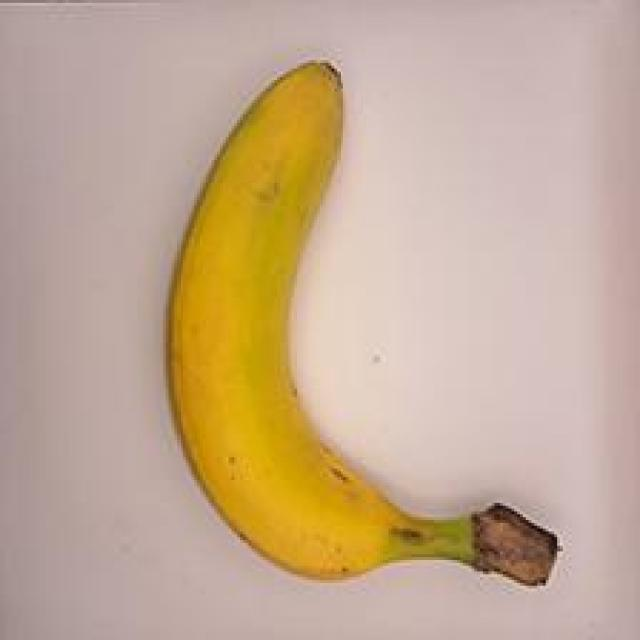Ripe: (144, 42, 570, 605)
